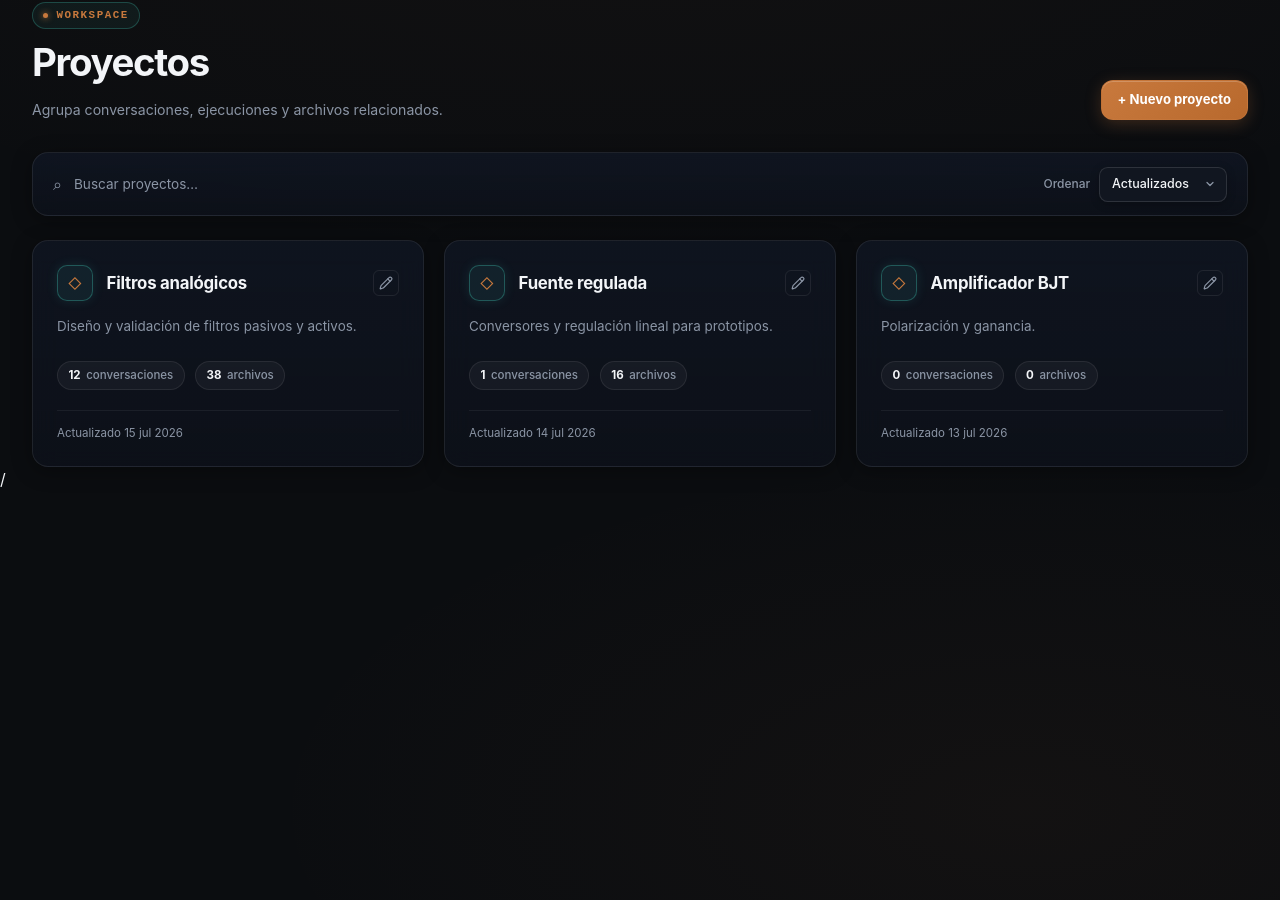
Test: creates a project and opens its route
Expected: the element named "Lista de proyectos" is shown, 32,240 -> 1248,467
Click the button "+ Nuevo proyecto" at (1174, 100), box 1100,80 -> 1248,120
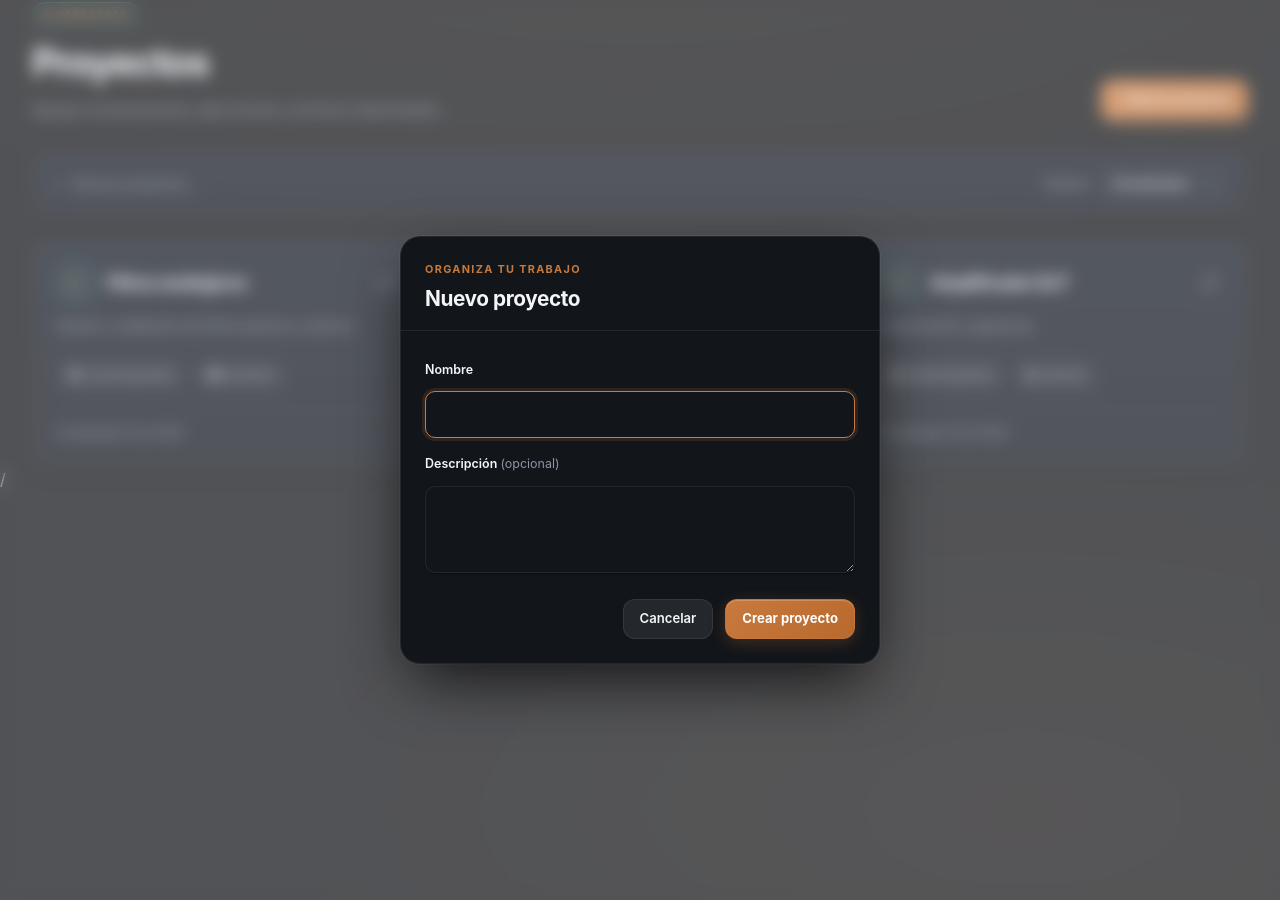
Type "Sensores" into the field labelled "Nombre" at (640, 415), box 425,392 -> 855,438
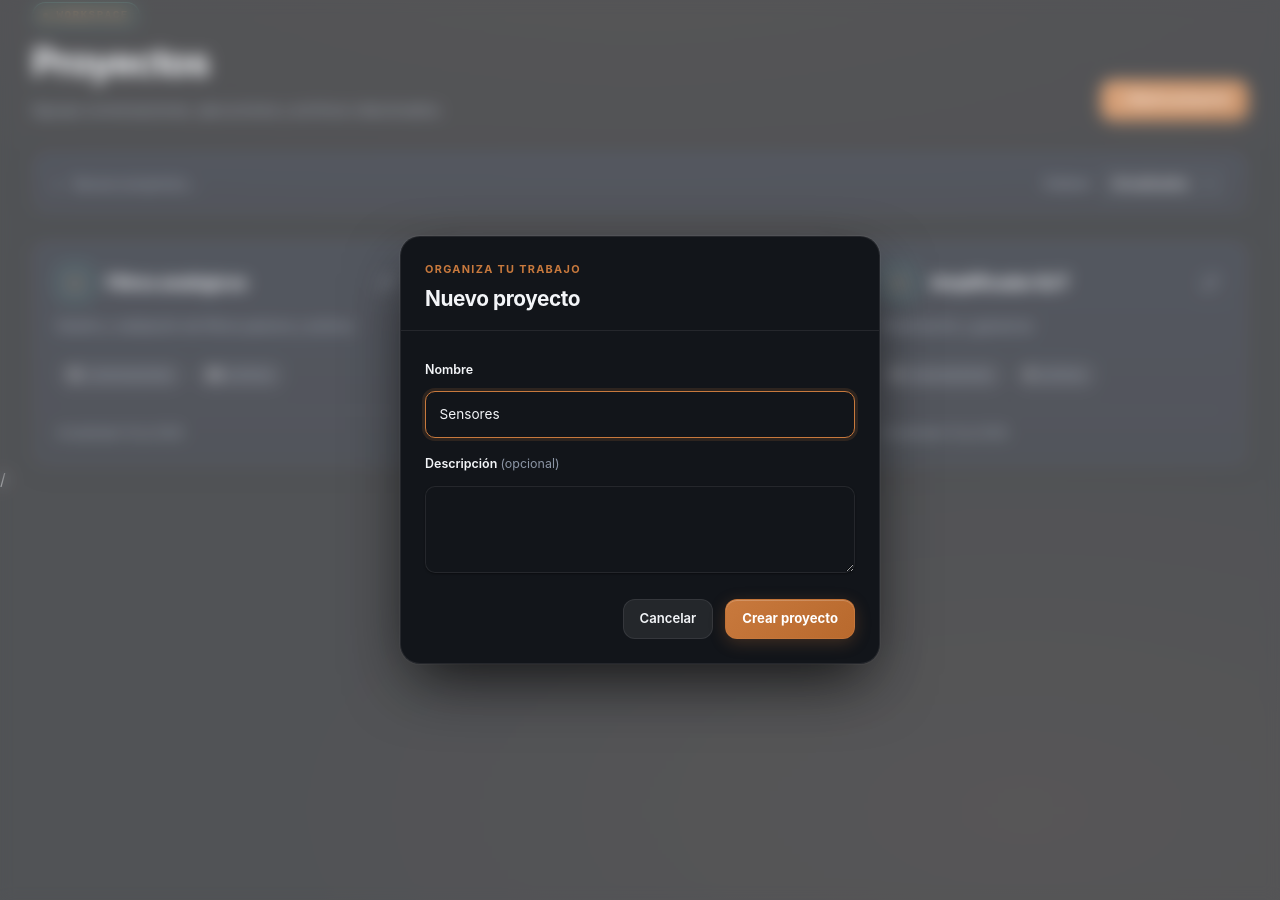
Click the button "Crear proyecto" at (790, 619), box 725,599 -> 855,639
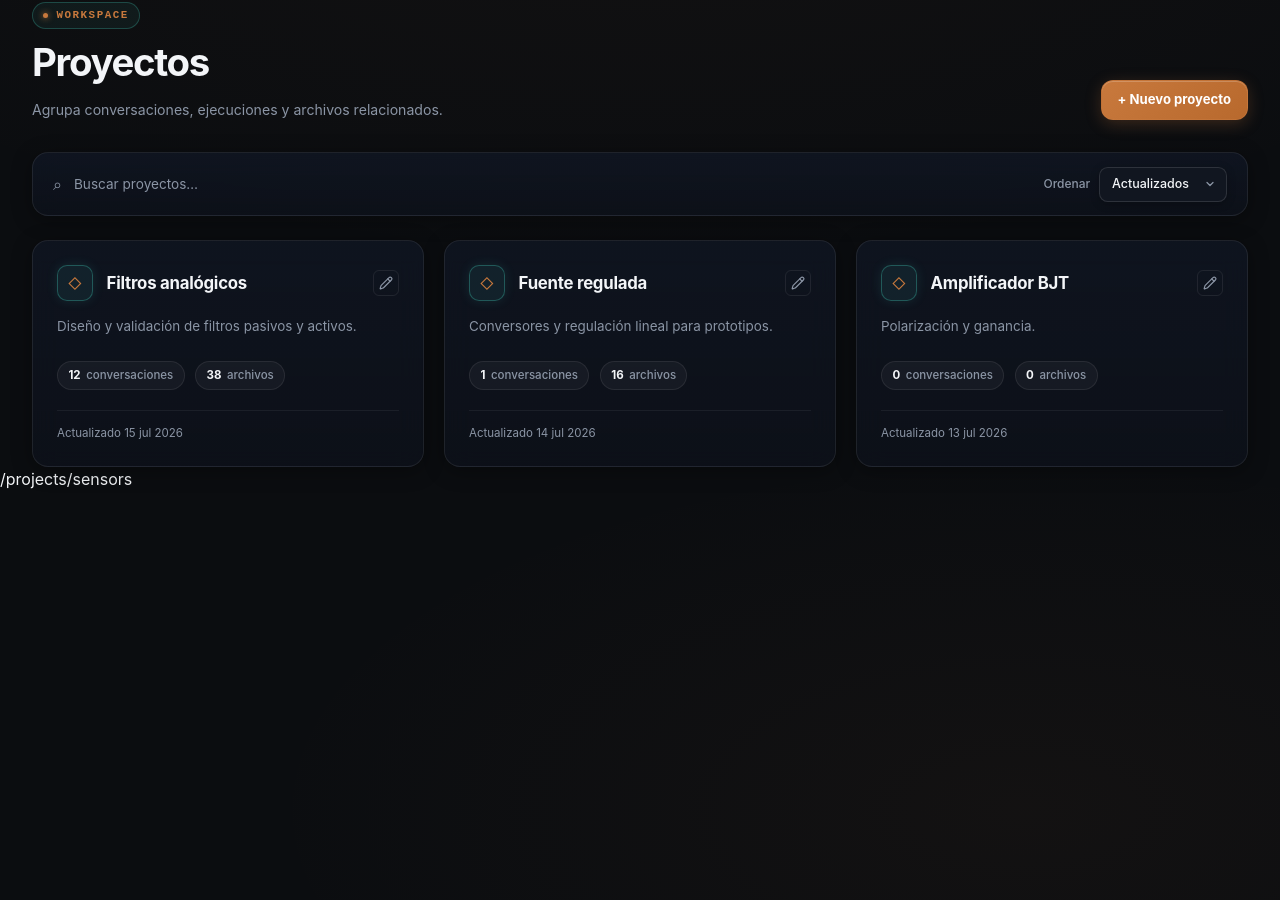
Expected: the dialog is gone
Expected: the text named "Ruta actual" reads "/projects/sensors", 0,469 -> 132,489
